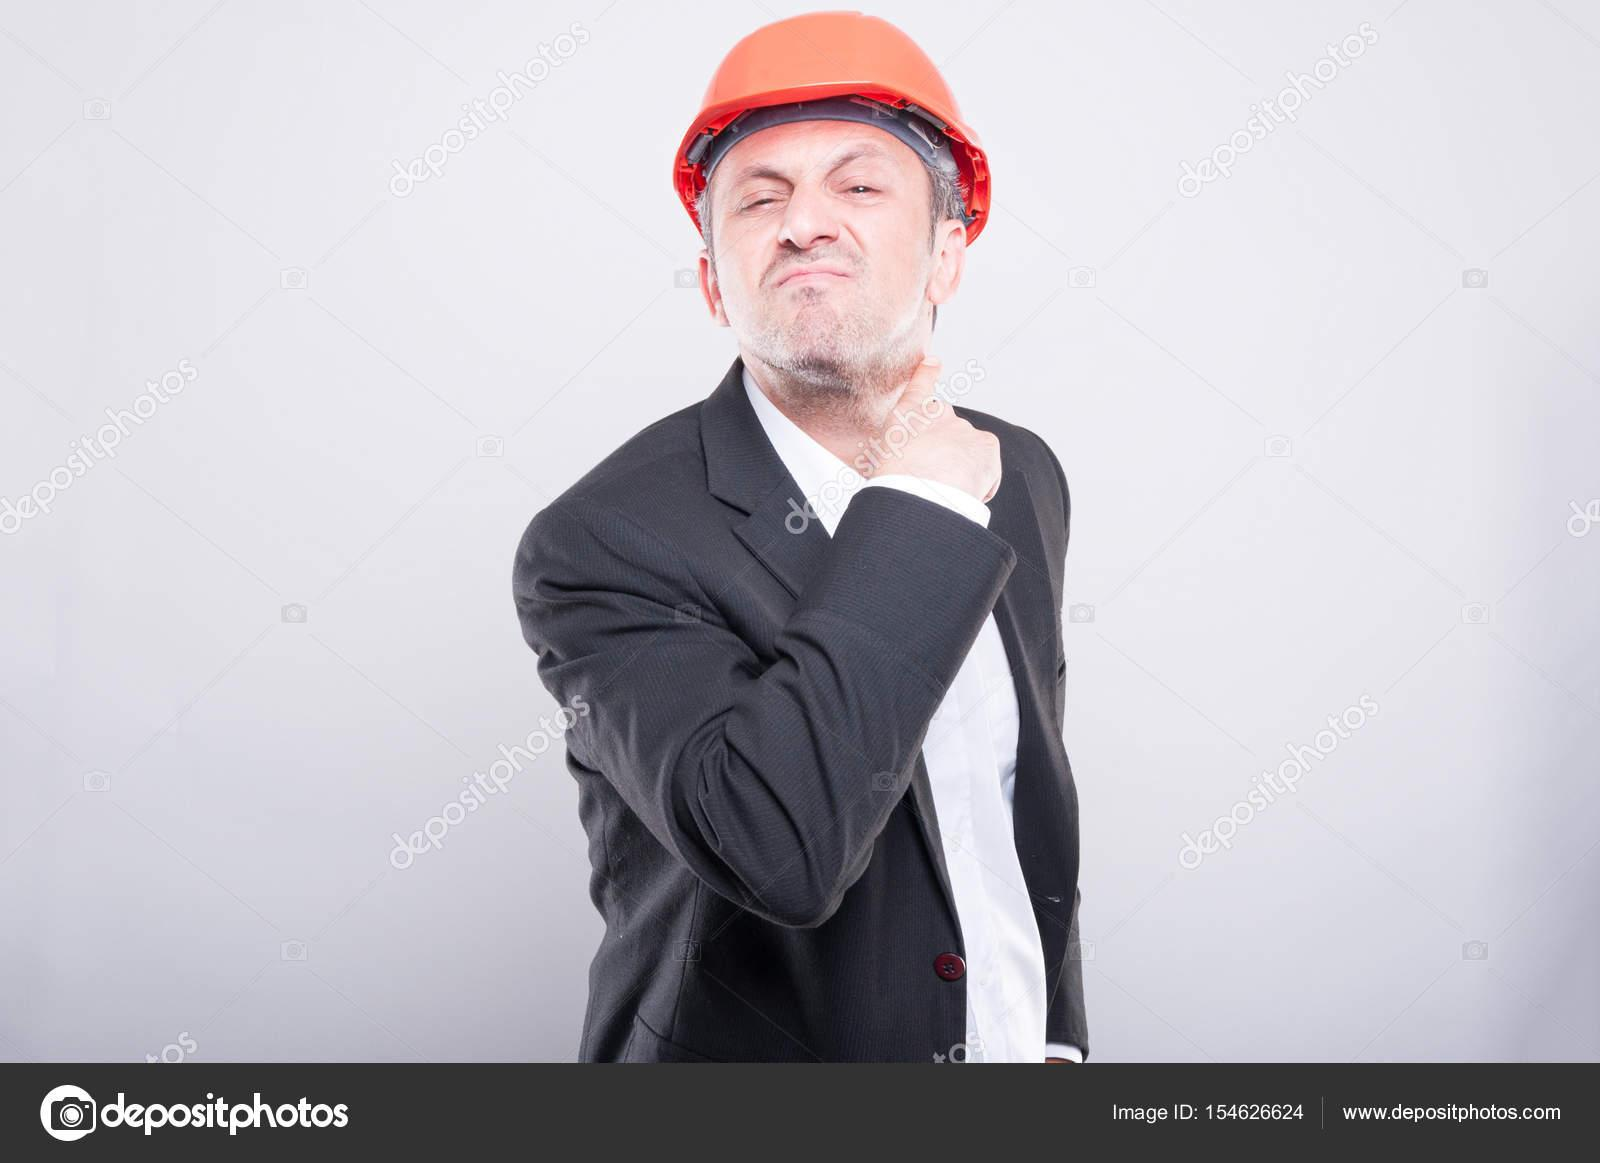helmet: (677, 14, 1004, 252)
